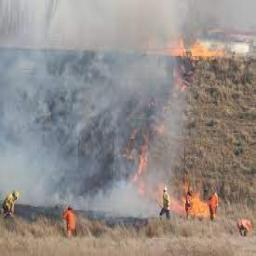Low smoke: (0, 2, 209, 237)
Medium fire: (110, 16, 233, 223)
